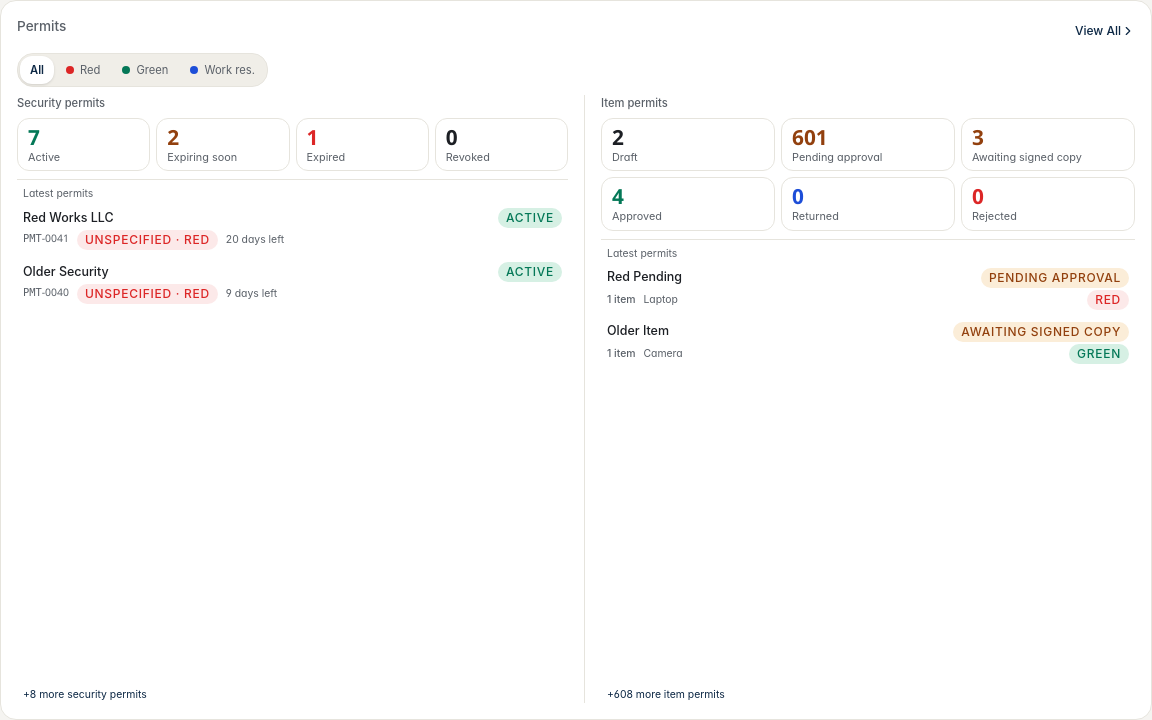
Test: PermitsWidget › renders the extra-large box as security and item panes with their own rows and zone toggle
Click the button "Red".
click(83, 70)  # box x1=56 y1=56 x2=110 y2=84
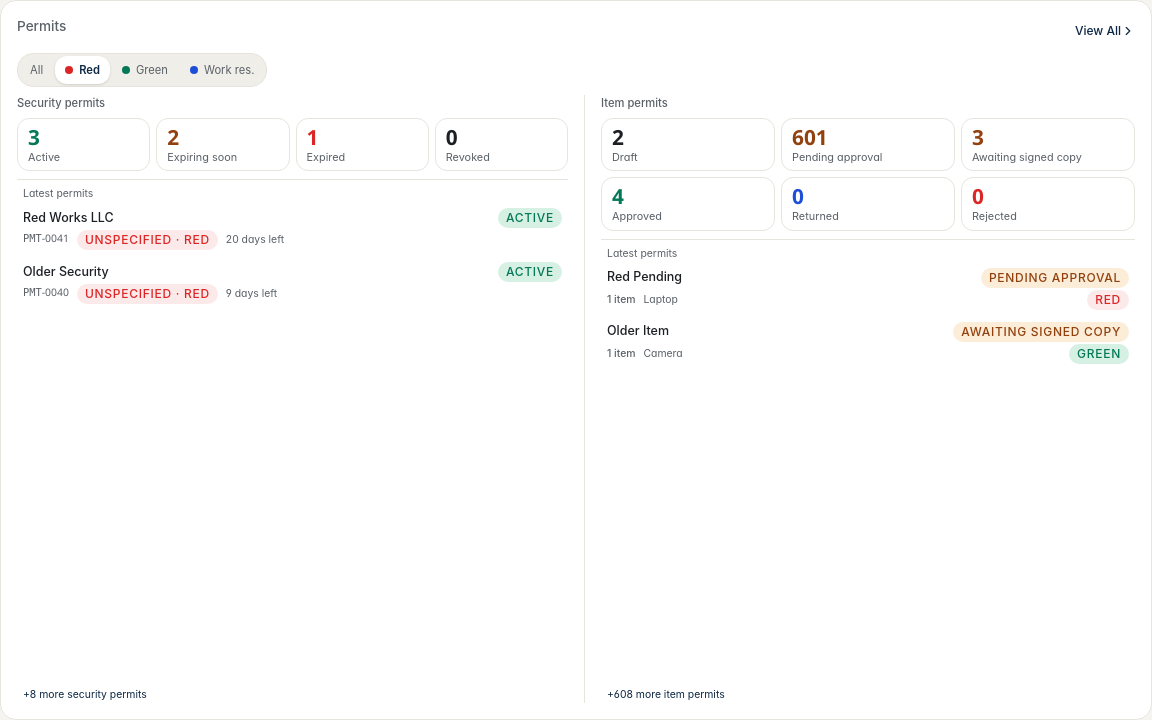
Expected: the link "3 Active" is shown, x1=17 y1=118 x2=150 y2=171
